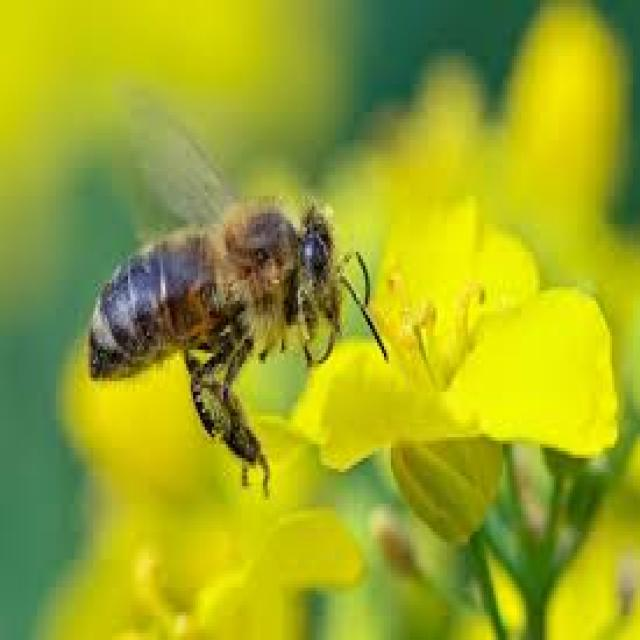Bees: (87, 95, 390, 501)
